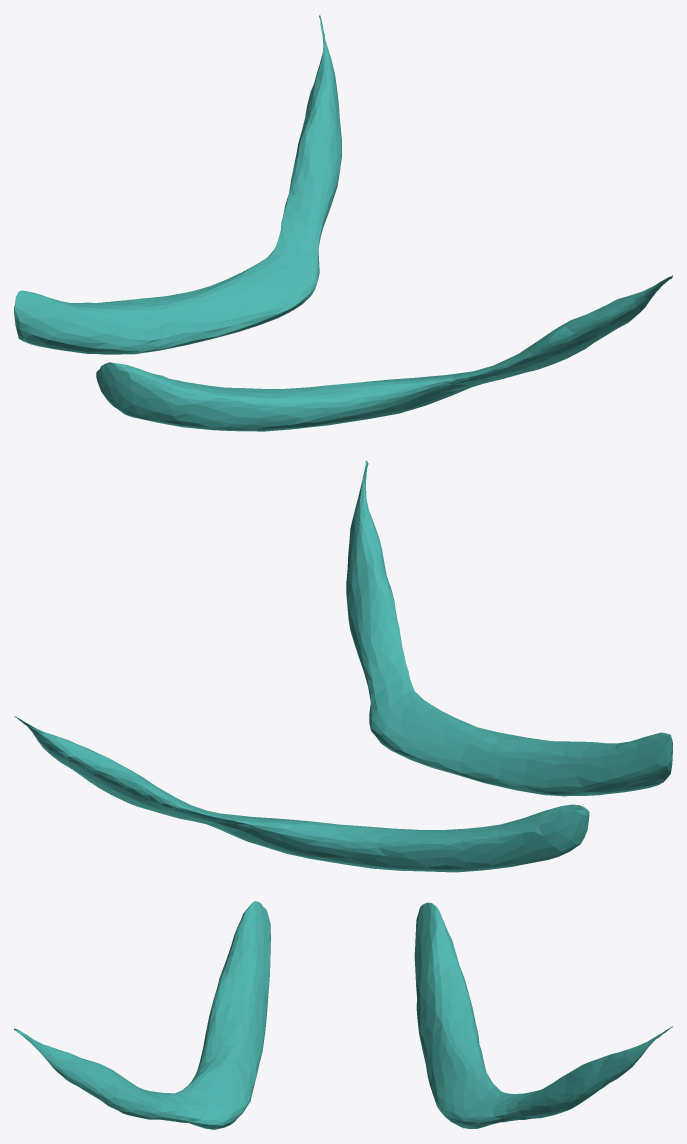
3 views of the same model, one above another, from view 1: azimuth 30°, elevation 25°; view 2: azimuth 150°, elevation 25°; view 3: azimuth 270°, elevation 25° (orthographic). The views are drawn at different scales.
Visible parts, largest first — view 1: 274.obj; view 2: 274.obj; view 3: 274.obj.
Boxes of the visible parts, x1,y1,x2,y2 form: 274.obj: (14, 15, 672, 431); 274.obj: (14, 460, 672, 872); 274.obj: (14, 901, 672, 1129).
Size of the model in its own units: 3585 by 1390 by 4964.
